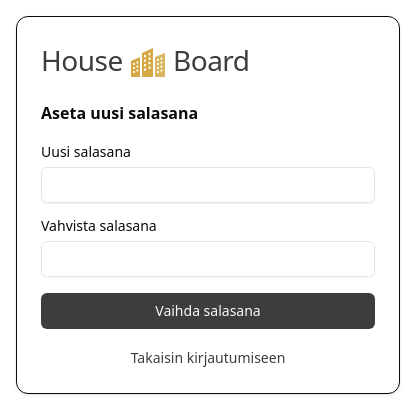
it: ResetPasswordPage › shows success message after valid submission
Click the password field labelled "Uusi salasana": (208, 185) left=41, top=167, right=375, bottom=203
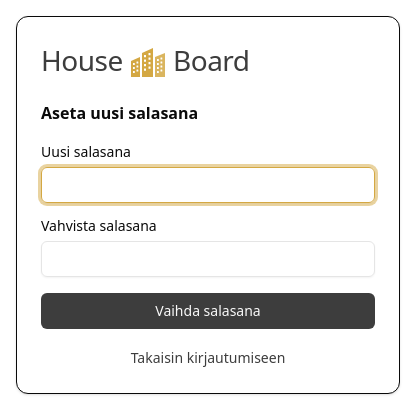
Type keys "NewPassword1!"
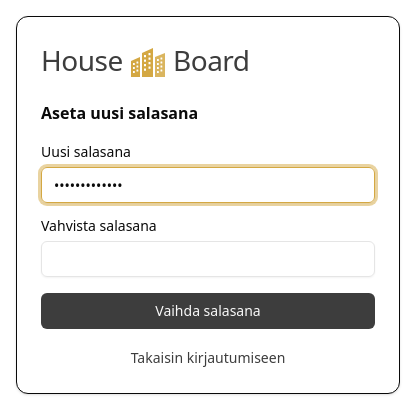
Click the password field labelled "Vahvista salasana": (208, 259) left=41, top=241, right=375, bottom=277
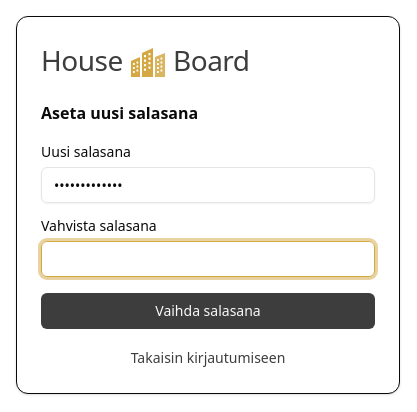
Type keys "NewPassword1!"
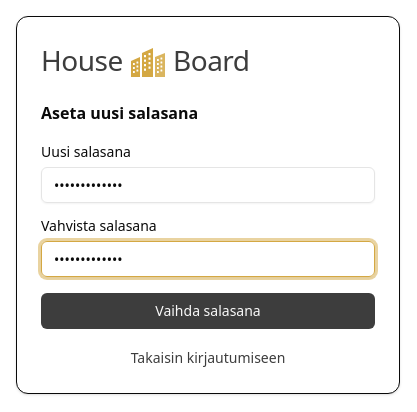
Click the button "Vaihda salasana": (208, 311) left=41, top=293, right=375, bottom=329
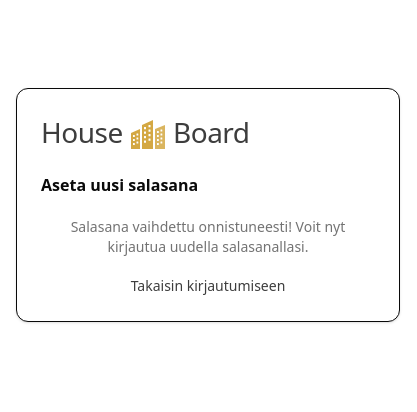
Expected: the text "vaihdettu onnistuneesti" is shown, left=71, top=217, right=345, bottom=256
